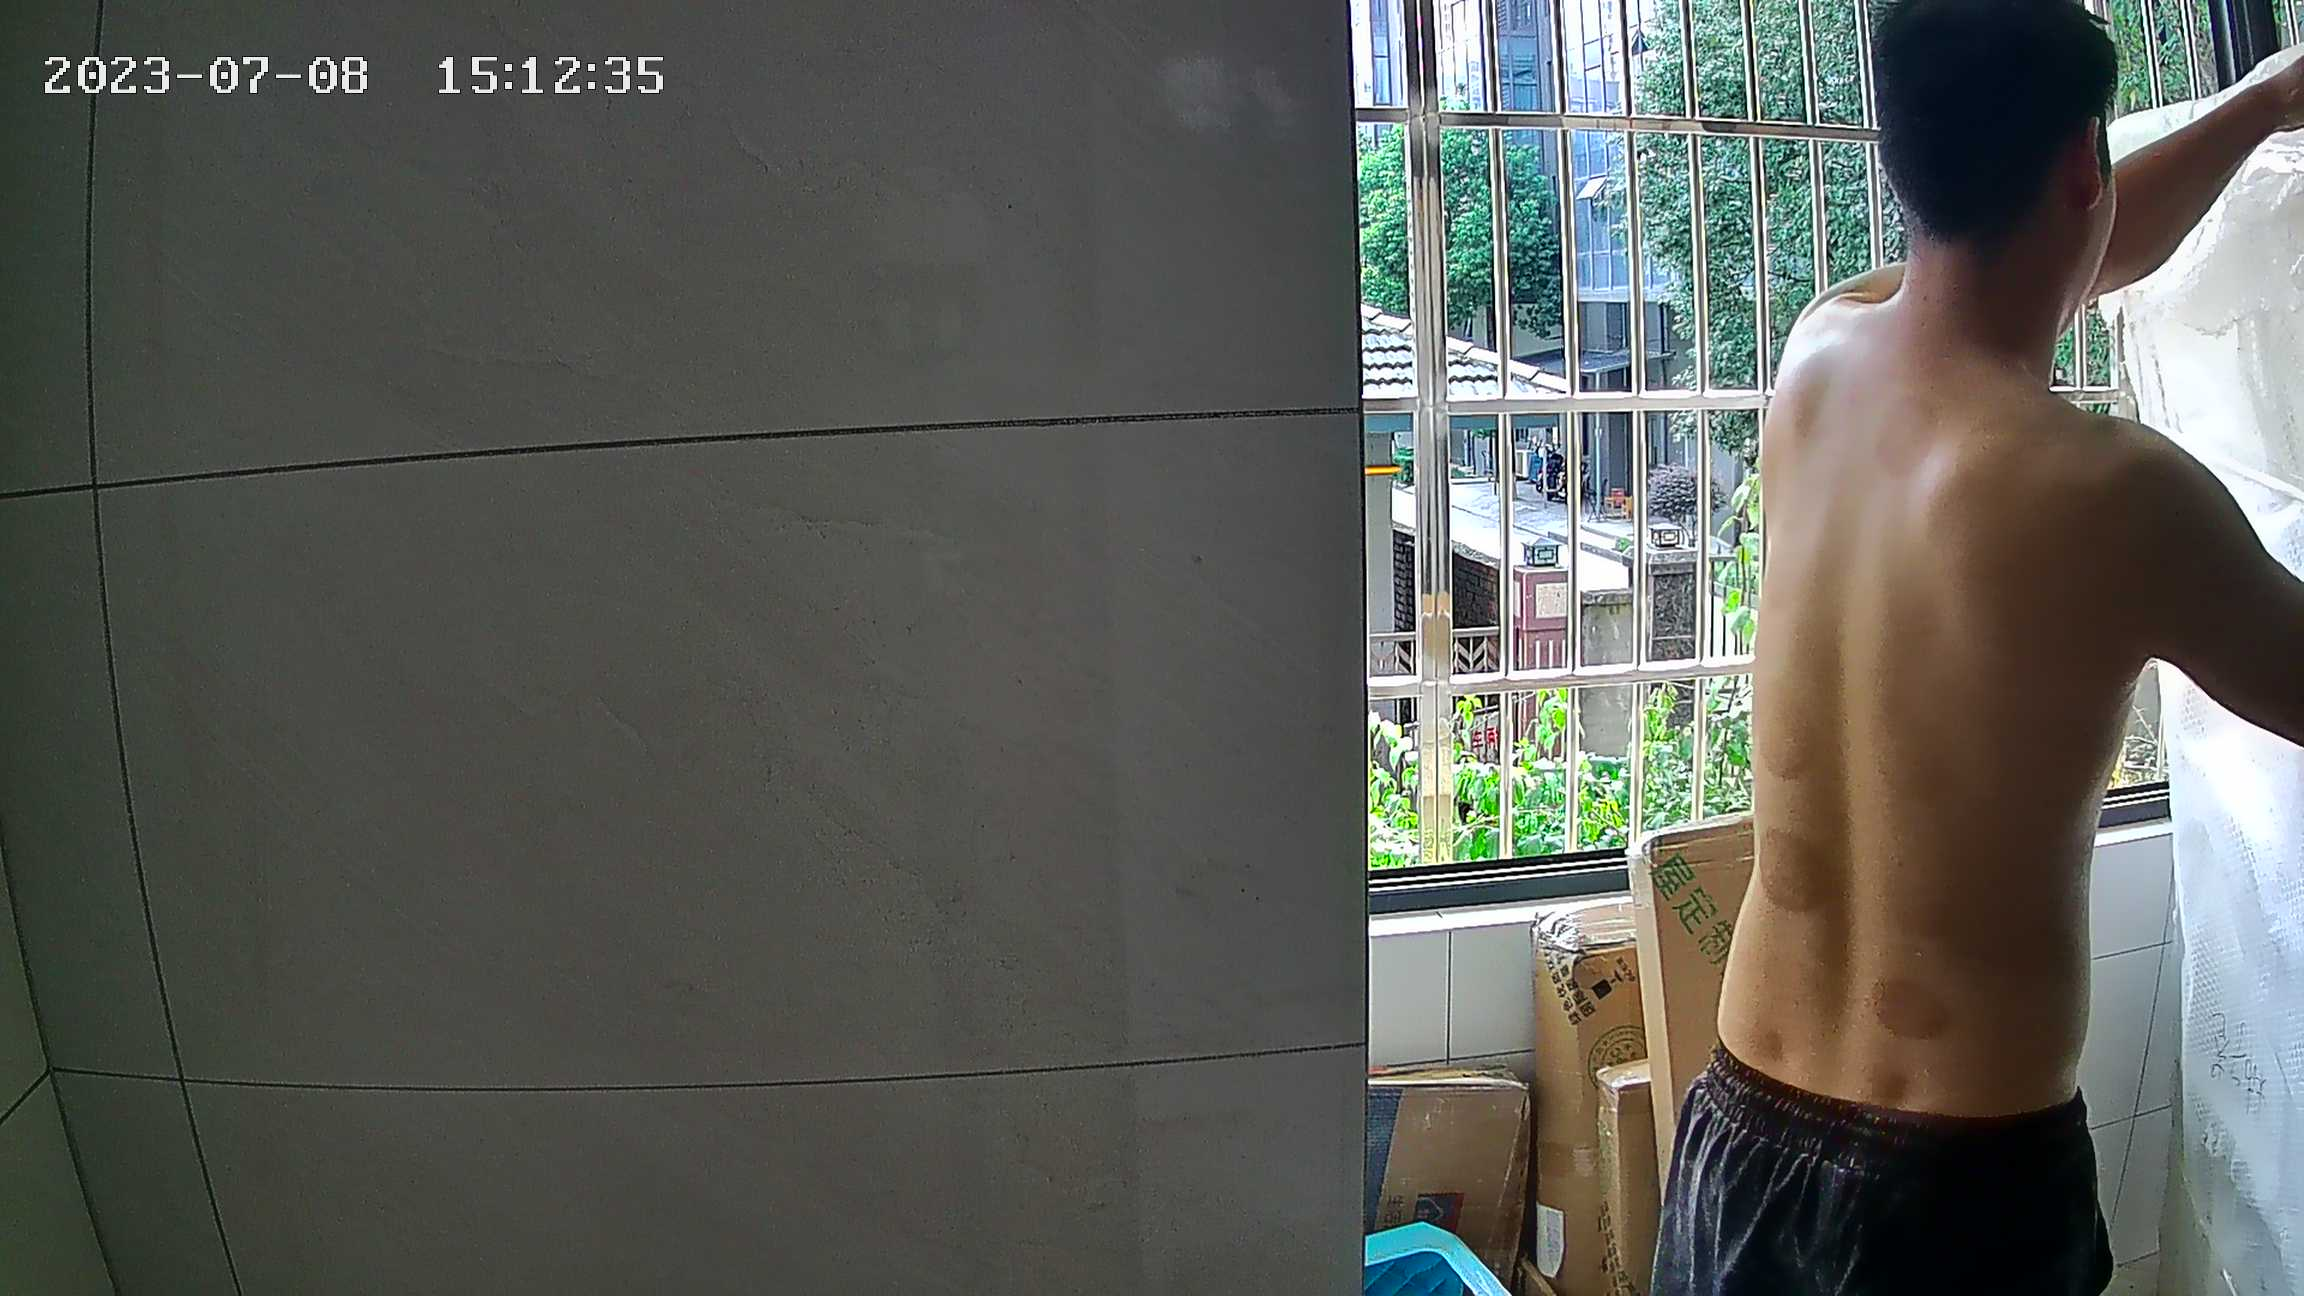people: (1697, 4, 2304, 1264)
window: (1369, 10, 2304, 902)
